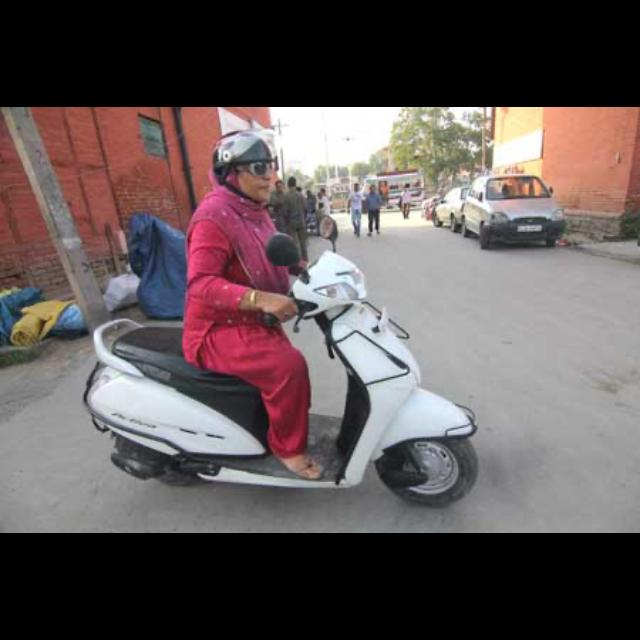With Helmet: (204, 125, 282, 202)
